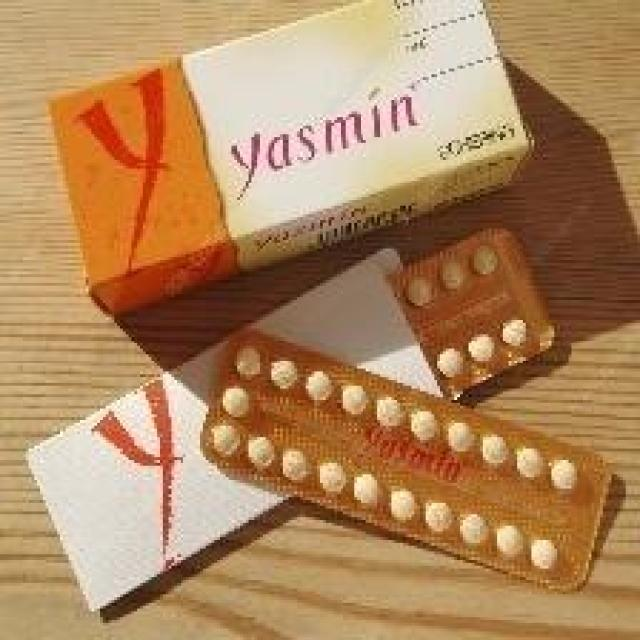Medicine: (24, 16, 640, 623)
